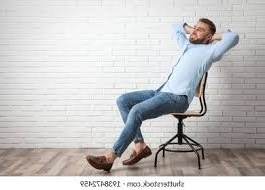not_fallen: (80, 13, 239, 174)
